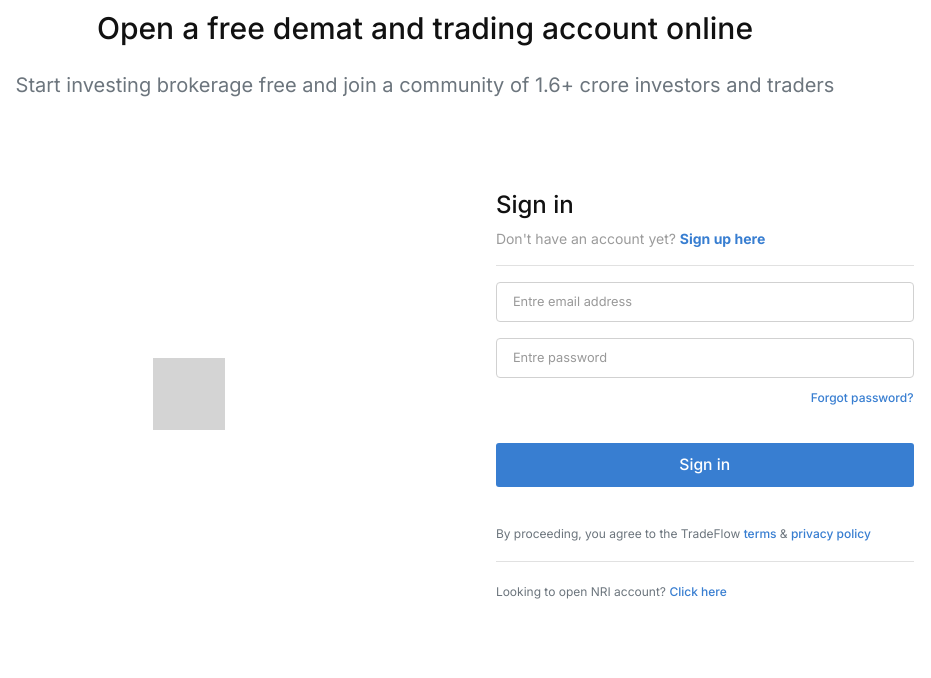
Test: HeroSection Signup Form › shows signup form when 'Sign up here' is clicked
What coordinates should you click on to do the following:
click the link "Sign up here"
I would click on:
 (723, 238)
Its box is x1=680 y1=230 x2=765 y2=246.
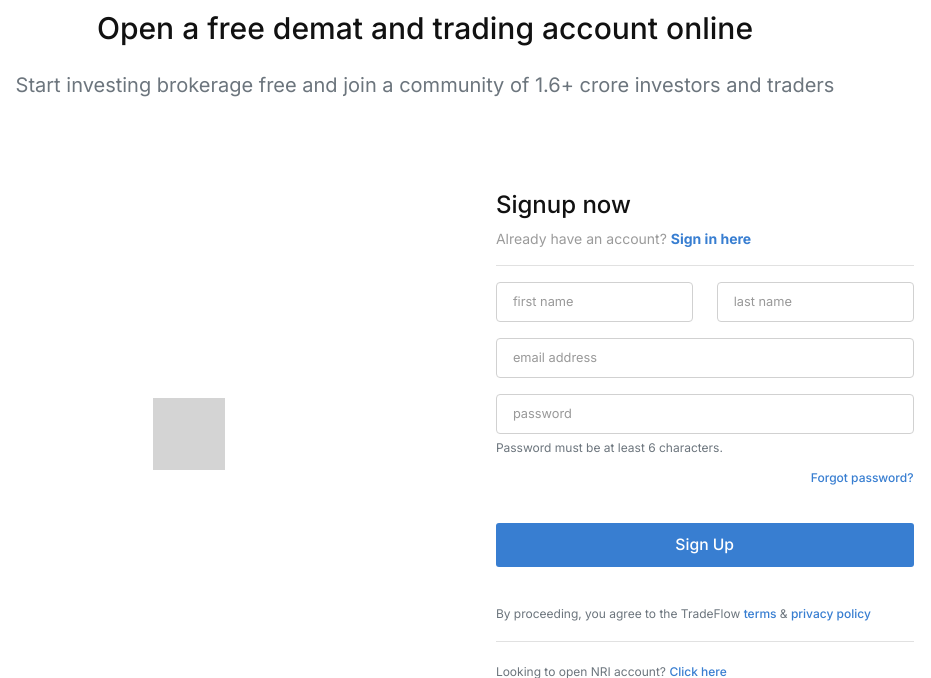
Expected: the heading "Signup now" is shown, x1=496 y1=190 x2=631 y2=218
